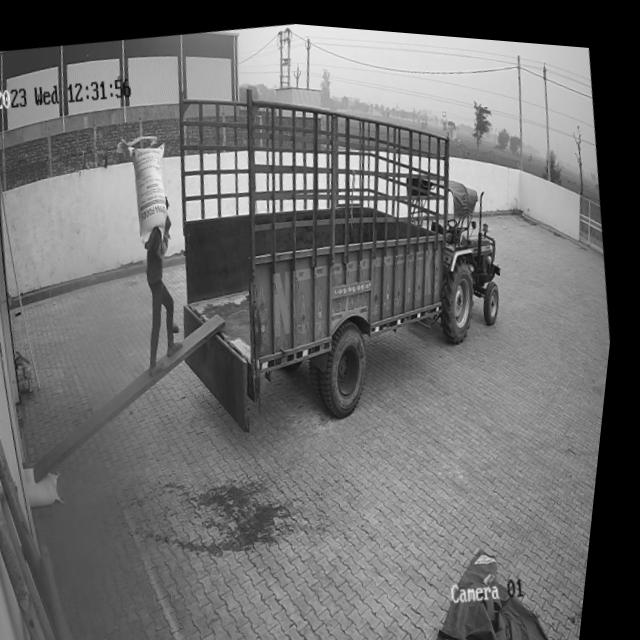sack: (123, 137, 183, 236), (28, 459, 74, 510)
